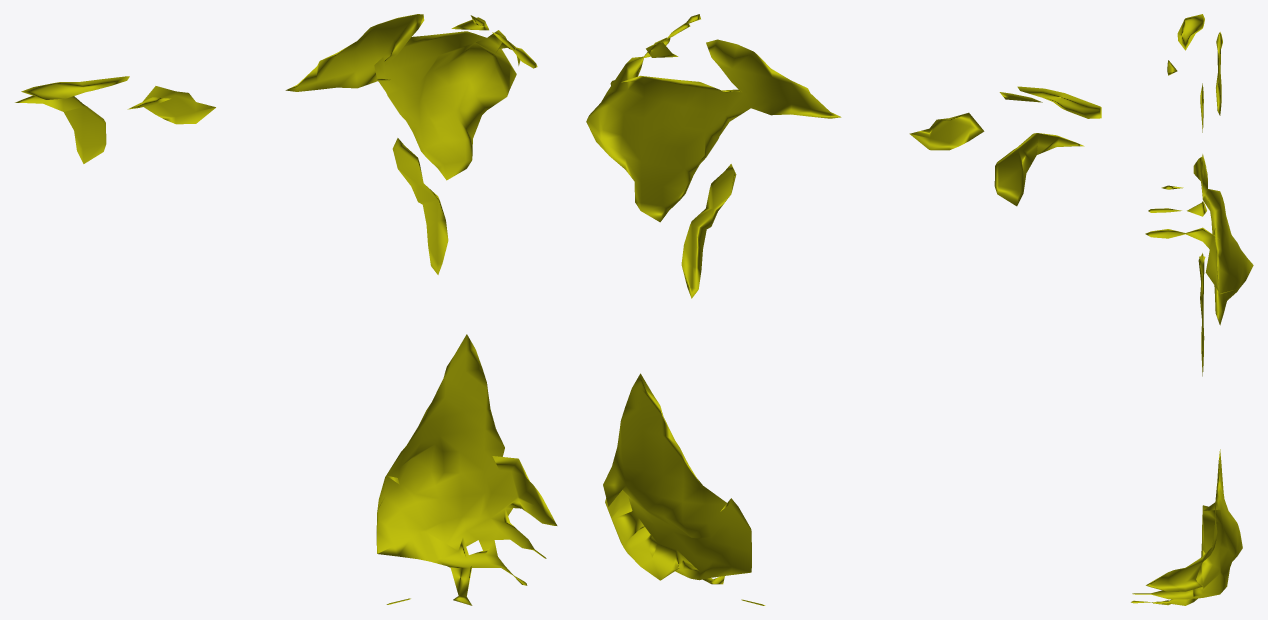
3 views of the same model, side by side, from view 1: azimuth 30°, elevation 25°; view 2: azimuth 150°, elevation 25°; view 3: azimuth 270°, elevation 25° (orthographic). The views are drawn at different scales.
Parts seen in each view (by area): view 1: world; view 2: world; view 3: world.
Boxes of the visible parts, x1,y1,x2,y2 form: world: [15, 14, 557, 605]; world: [586, 14, 1101, 605]; world: [1131, 14, 1253, 605].
Size of the model in its own units: 24.96 by 28.13 by 7.15.
